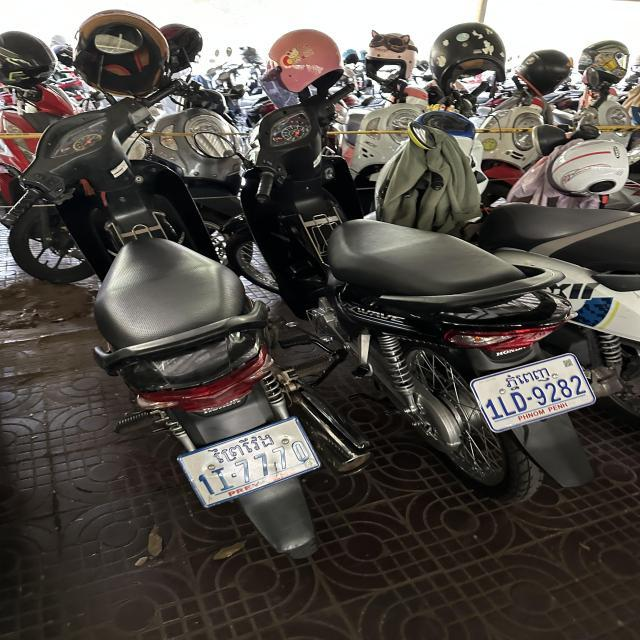Phnom_Penh: (505, 365, 550, 390)
Prey_Veng: (206, 432, 270, 464)
